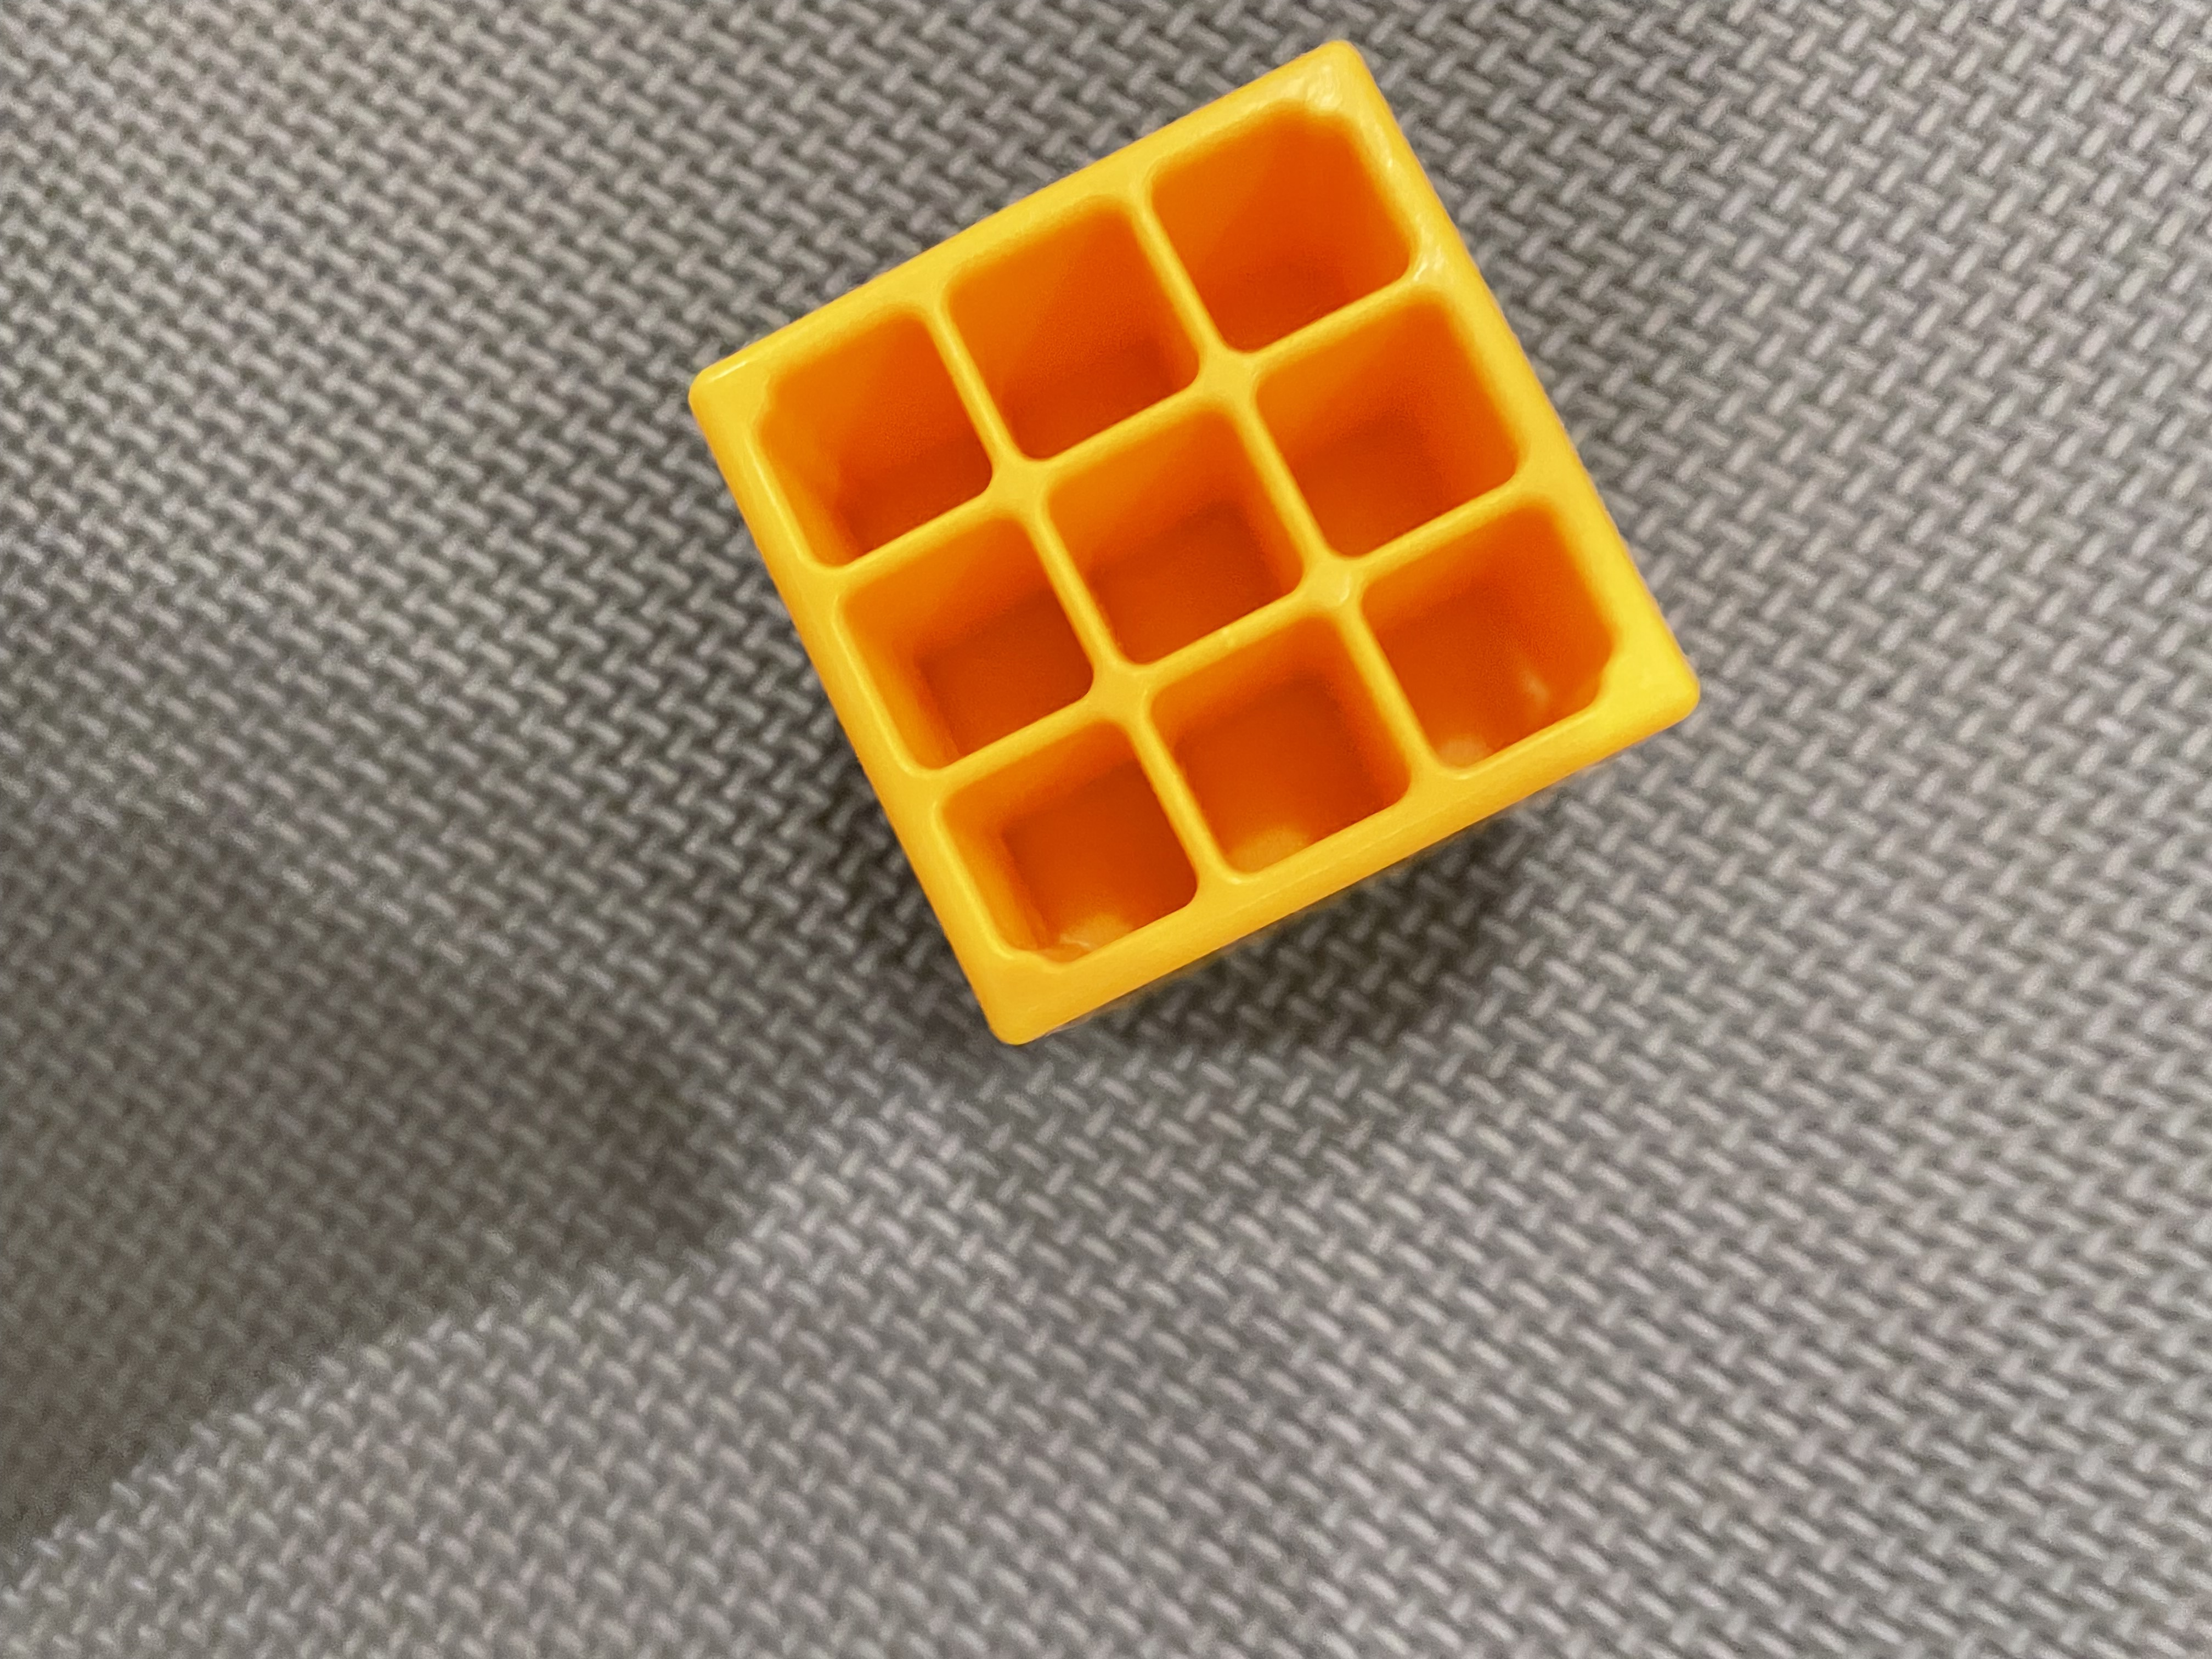cube: (646, 24, 1764, 1119)
